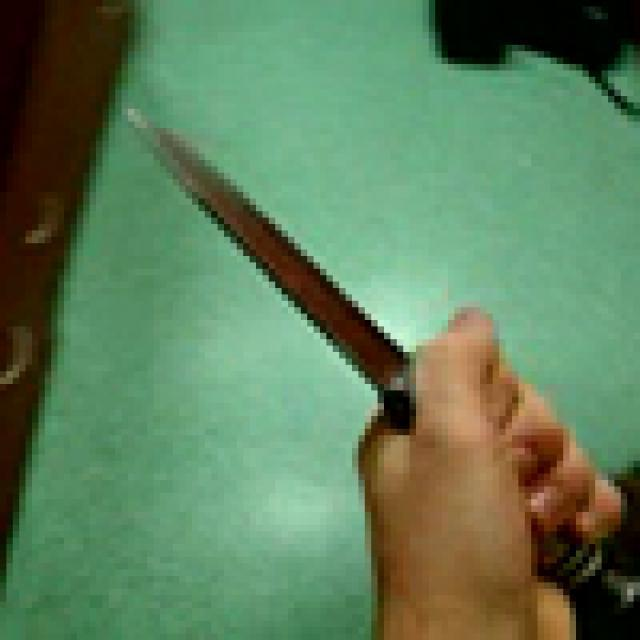knife: (121, 102, 634, 621)
